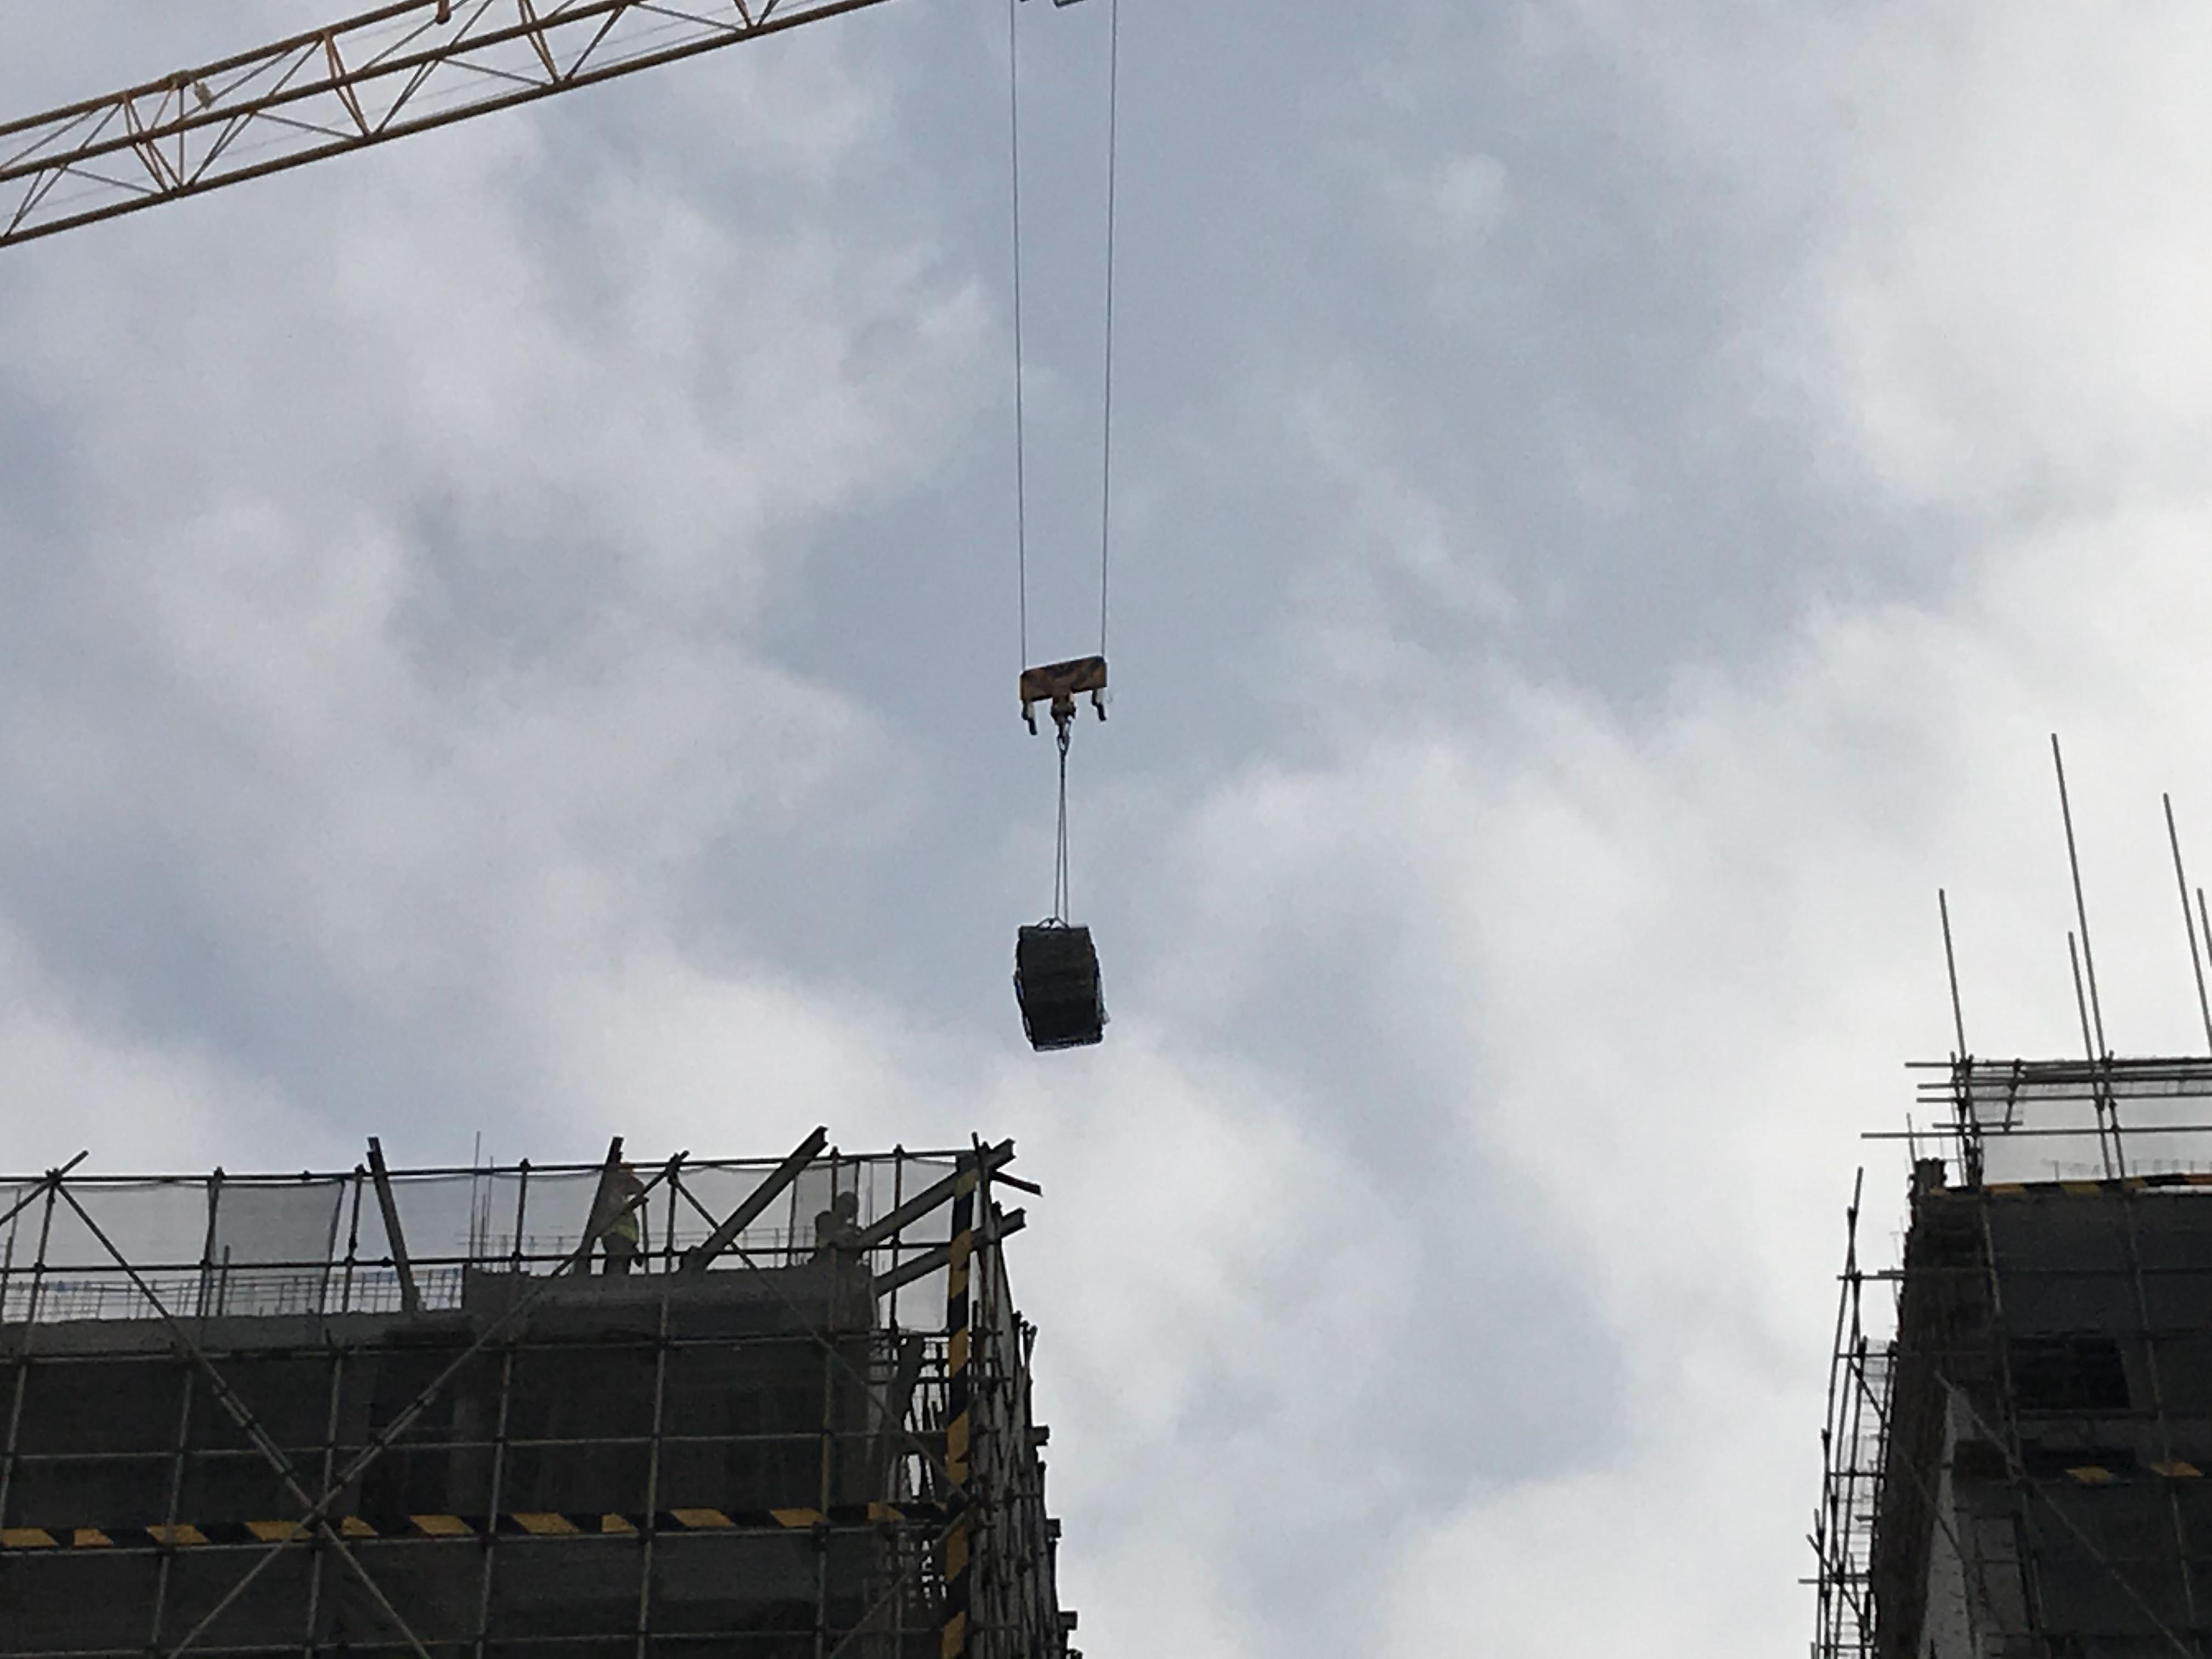hook: (985, 633, 1134, 752)
person: (608, 1156, 651, 1278), (814, 1182, 873, 1267)
